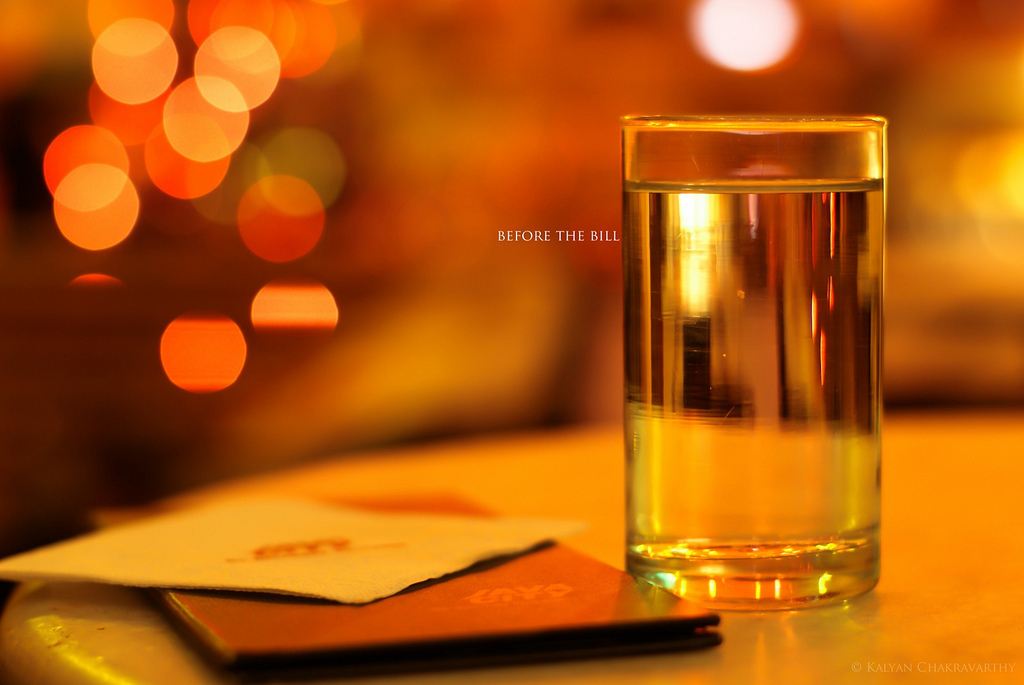glass of water: (619, 106, 907, 619)
